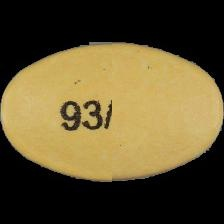42291-659: (0, 0, 224, 224)
